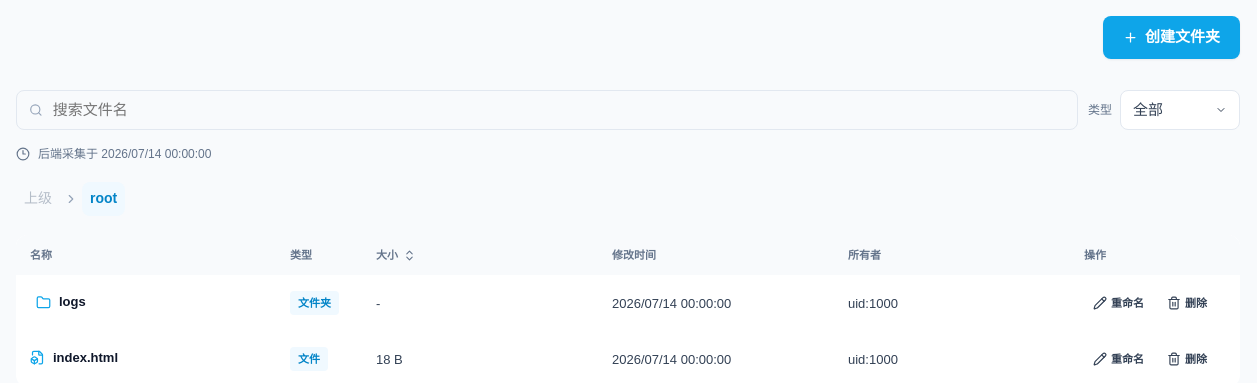
Scenario: files browser page › hides stale parent entries while a child directory loads
The image size is (1257, 383).
Step 1. Click the button "logs" → (146, 302), box x1=30 y1=291 x2=262 y2=313
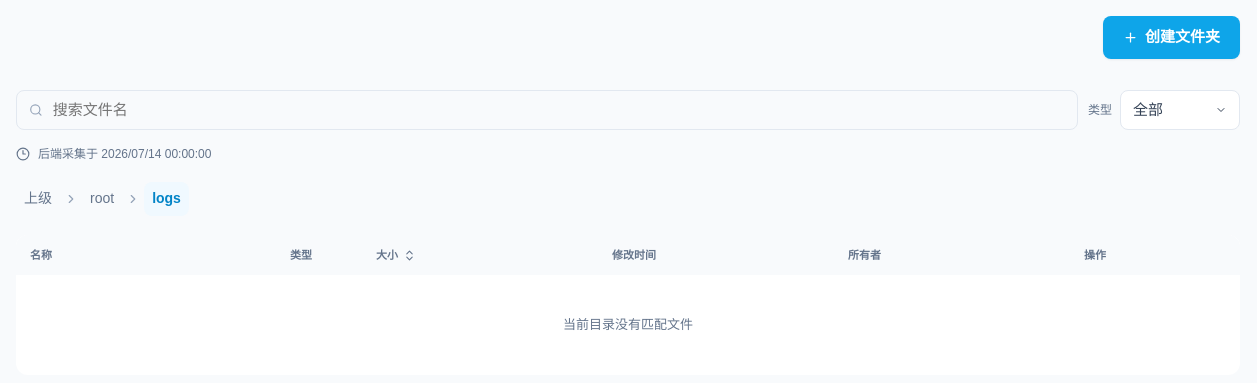
expect the text "index.html" is gone: met
